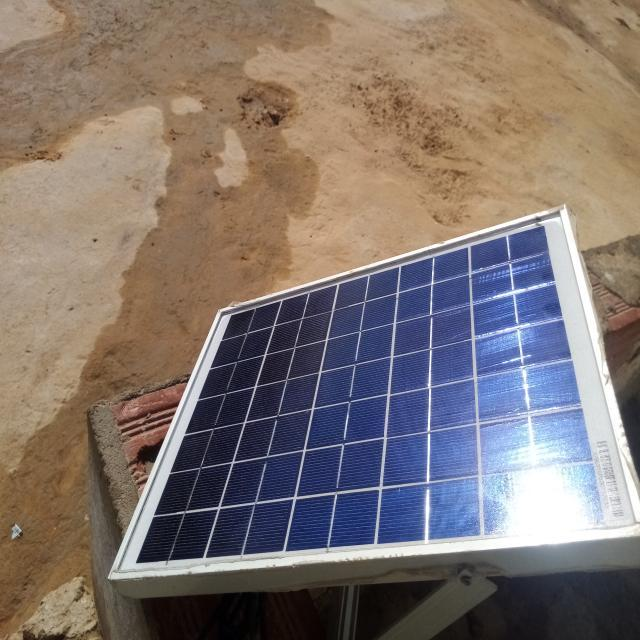no faulty: (111, 201, 638, 570)
